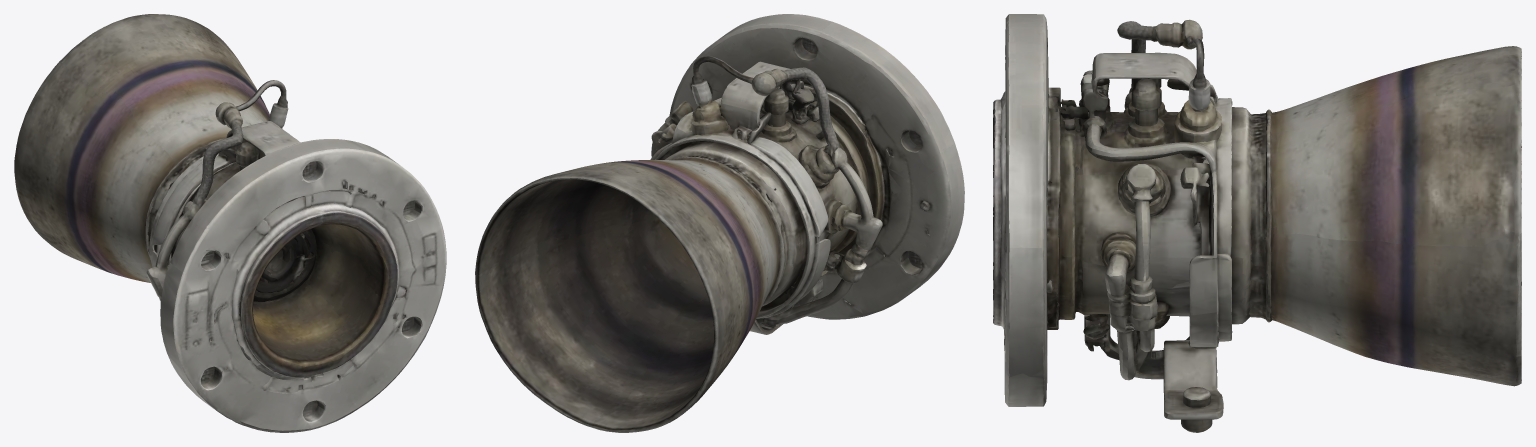
3 views of the same model, side by side, from view 1: azimuth 30°, elevation 25°; view 2: azimuth 150°, elevation 25°; view 3: azimuth 270°, elevation 25° (orthographic). The views are drawn at different scales.
Parts seen in each view (by area): view 1: geometry_0; view 2: geometry_0; view 3: geometry_0.
Part boxes in pixels (left/top/right/bottom): geometry_0: left=14, top=14, right=446, bottom=432; geometry_0: left=475, top=14, right=964, bottom=432; geometry_0: left=993, top=14, right=1521, bottom=432.
Size of the model in its own units: 0.32 by 0.3203 by 0.4168.
Materials: 1 (1 with a texture image).
